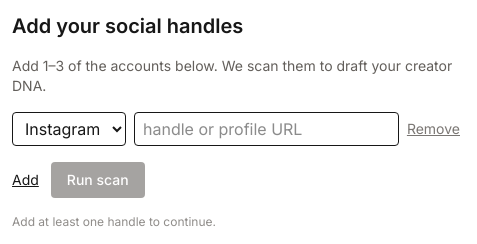
Test: HandlesStep › enables Run after entering a valid handle
The width and height of the screenshot is (477, 244).
Type "travel.hk" into the field with placeholder "handle or profile URL" at coordinates (266, 129), box [134, 112, 399, 146]
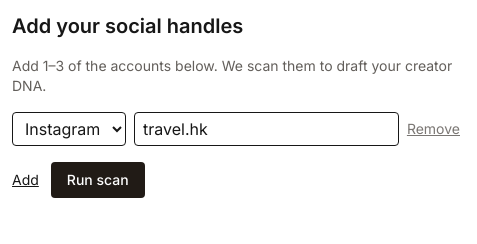
expect the button "Run scan" is enabled: met, box [51, 162, 145, 198]
